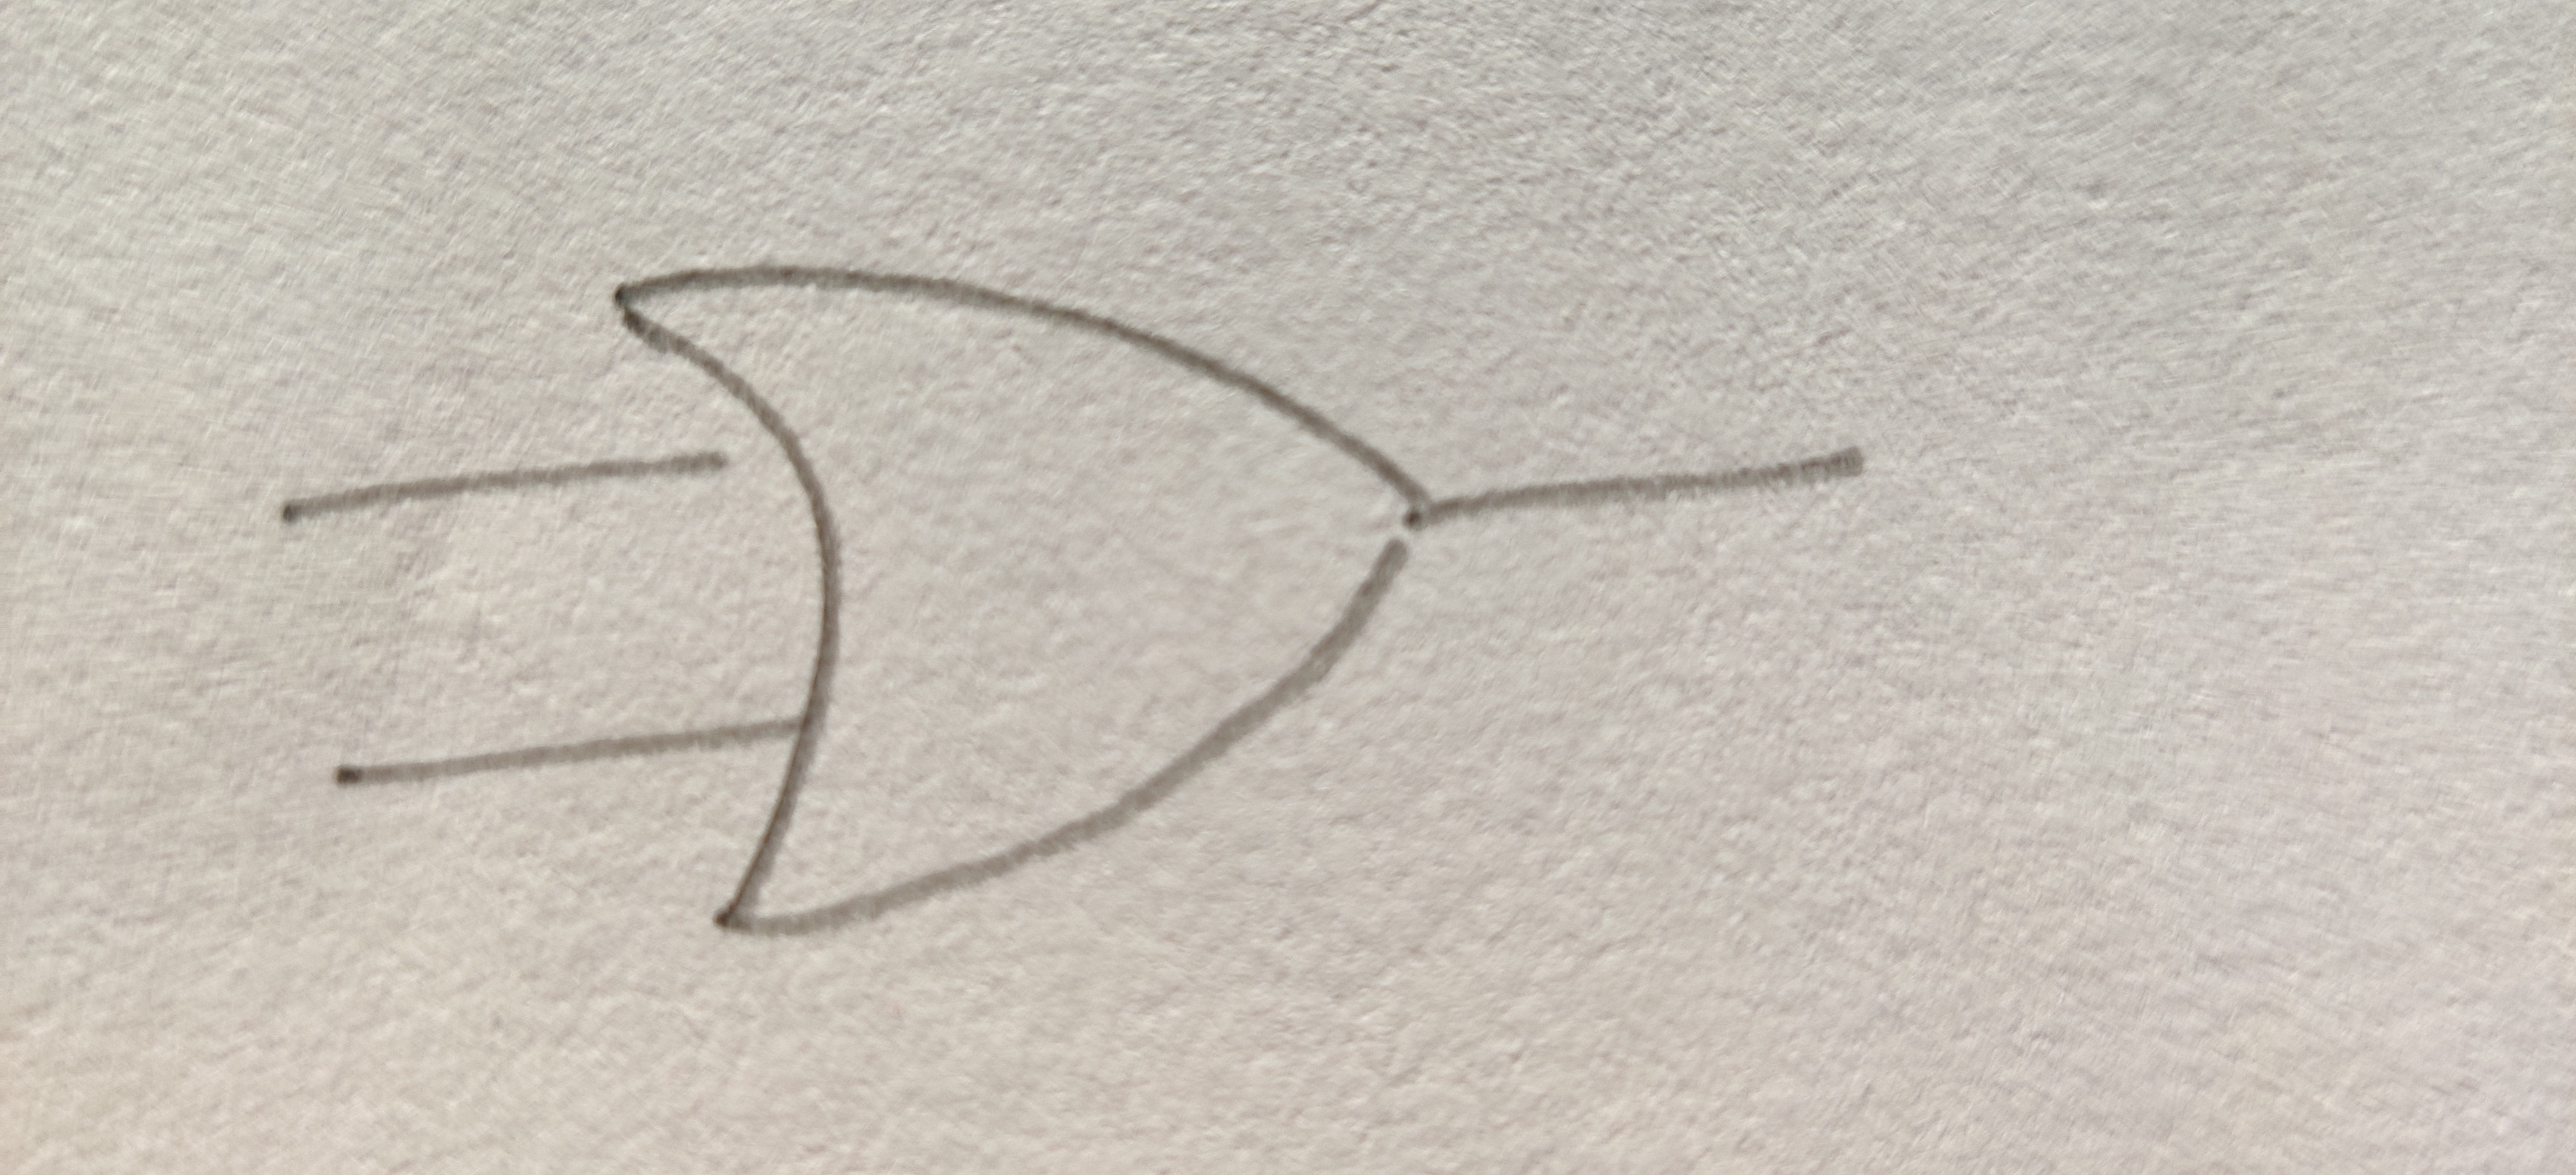or: (613, 270, 1437, 937)
